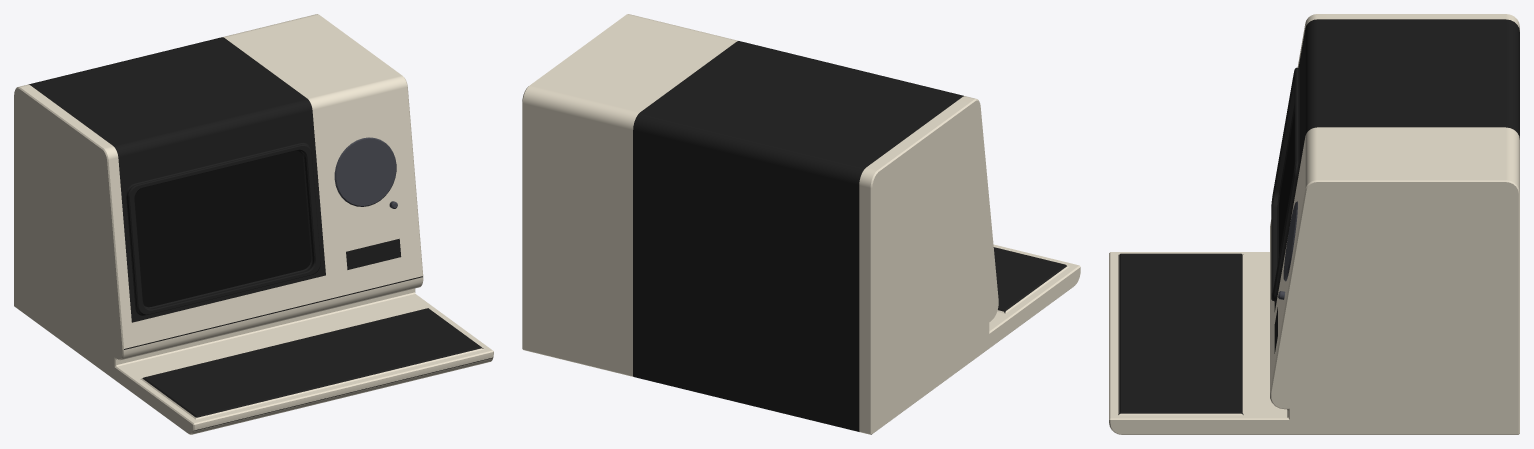
The model's file is computer.gltf.
3 views of the same model, side by side, from view 1: azimuth 30°, elevation 25°; view 2: azimuth 150°, elevation 25°; view 3: azimuth 270°, elevation 25° (orthographic). The views are drawn at different scales.
Visible parts, largest first — view 1: Old pc; view 2: Old pc; view 3: Old pc.
Part boxes in pixels (x1,y1,x2,y2): Old pc: (14,14,493,434); Old pc: (522,14,1080,434); Old pc: (1109,14,1519,434).
Size of the model in its own units: 0.9931 by 0.7047 by 1.03.
